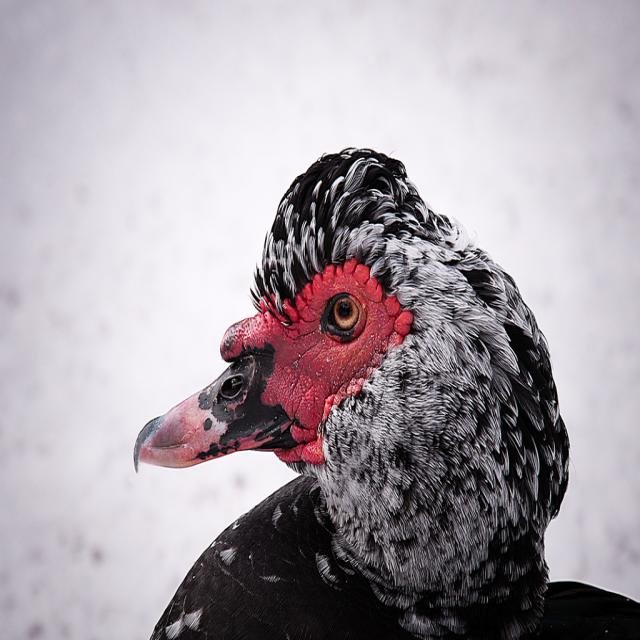Chicken: (152, 136, 582, 617)
